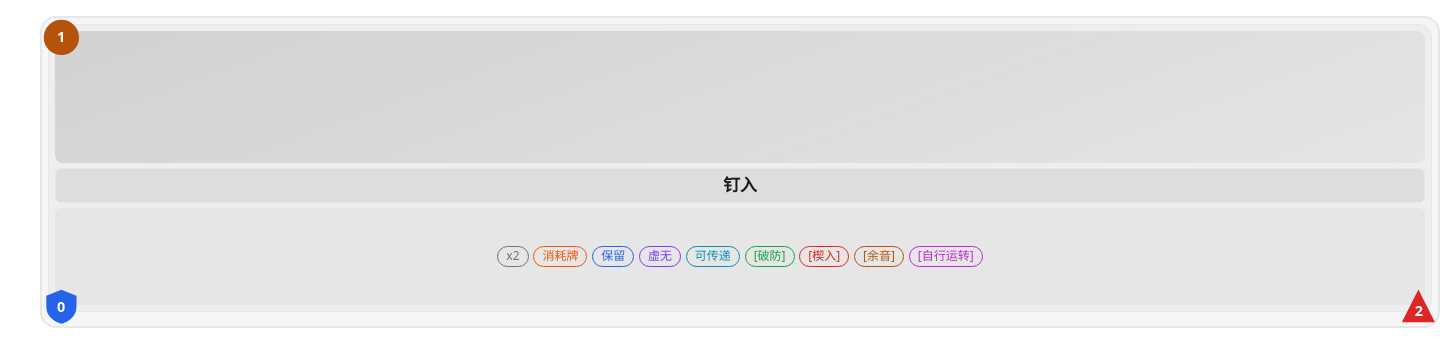
Test case: CardItem › 说明浮层：点外部 / 按 ESC 都会关
Click the button "保留" at coordinates (613, 256), box x1=592 y1=246 x2=634 y2=267
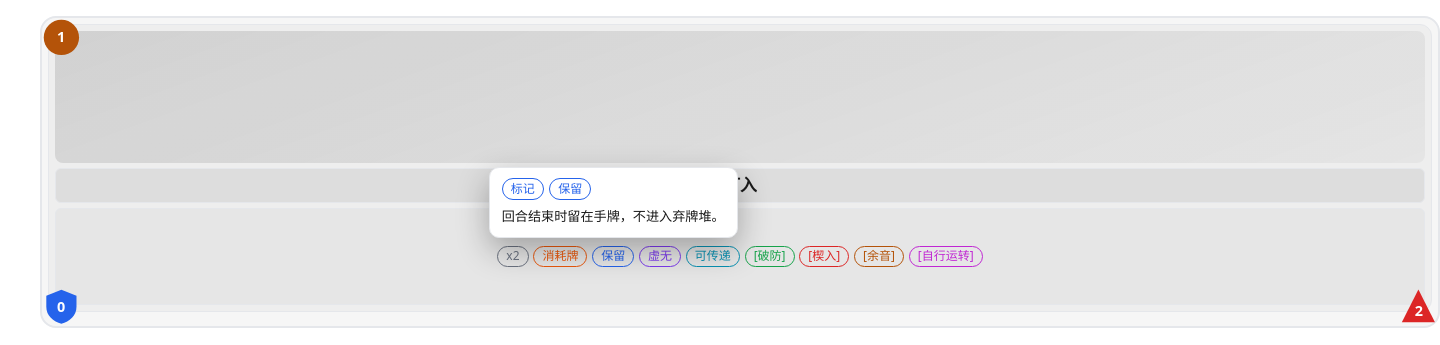
Expected: the tooltip "标记 保留 回合结束时留在手牌，不进入弃牌堆。" is shown, x1=489 y1=167 x2=738 y2=238
# 点浮层外面（`mousedown` 早于 click，所以不会跟"点另一枚 chip"抢）
Press the mouse on the element that starts with "消耗牌" at coordinates (720, 172), box x1=0 y1=16 x2=1439 y2=328
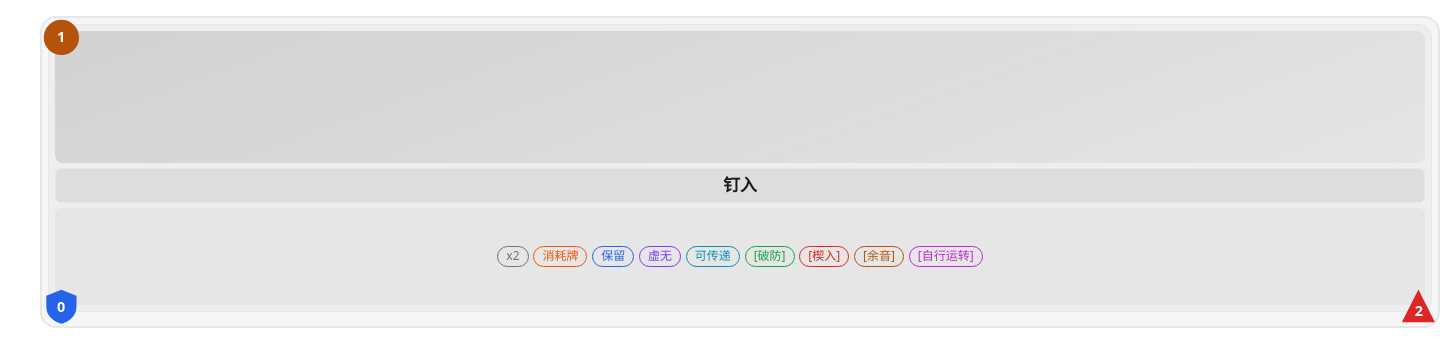
Expected: the tooltip "标记 保留 回合结束时留在手牌，不进入弃牌堆。" is gone
Click the button "保留" at coordinates (613, 256), box x1=592 y1=246 x2=634 y2=267
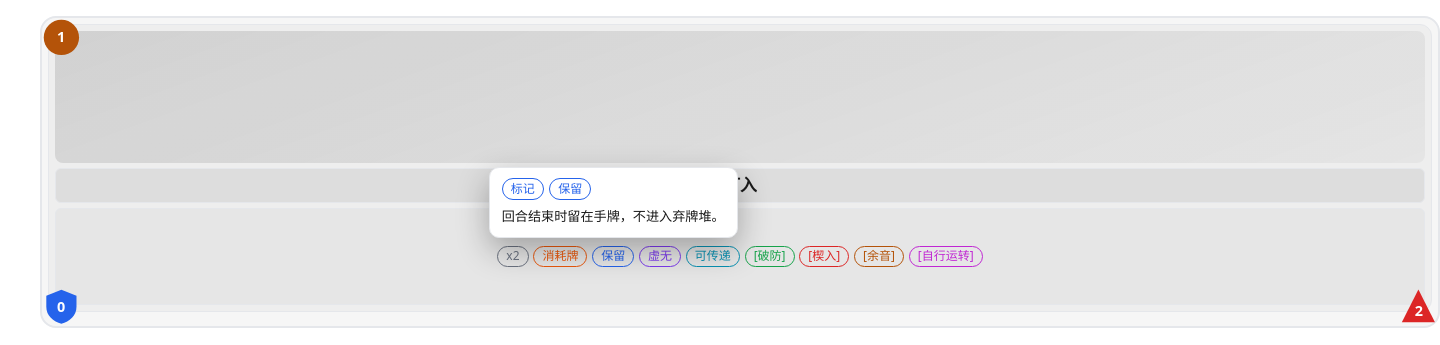
Press Escape
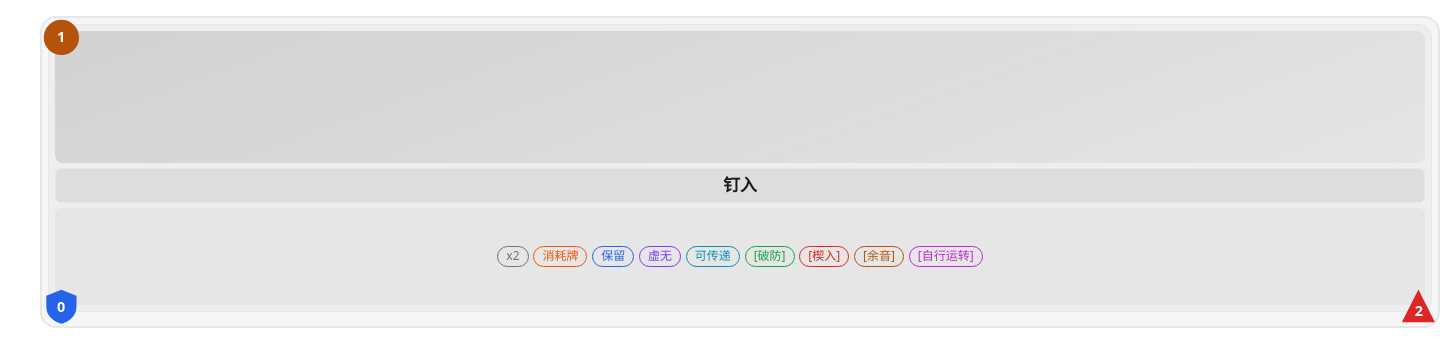
Expected: the tooltip "标记 保留 回合结束时留在手牌，不进入弃牌堆。" is gone
